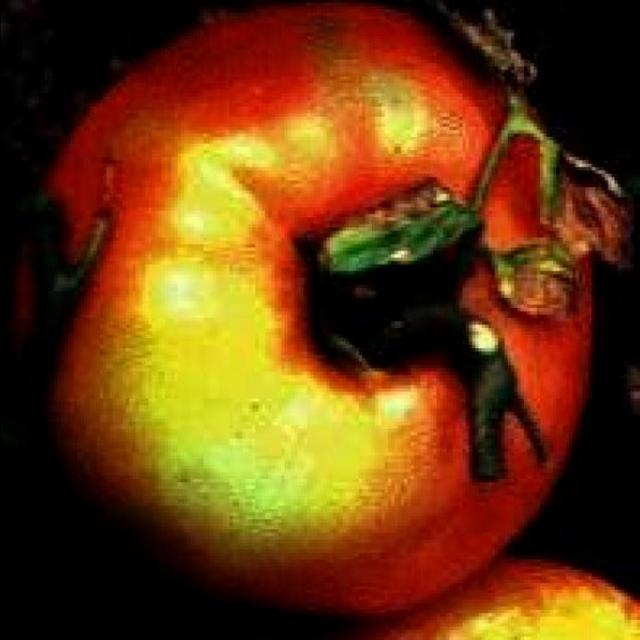Sunscald Fruit: (151, 27, 351, 413)
